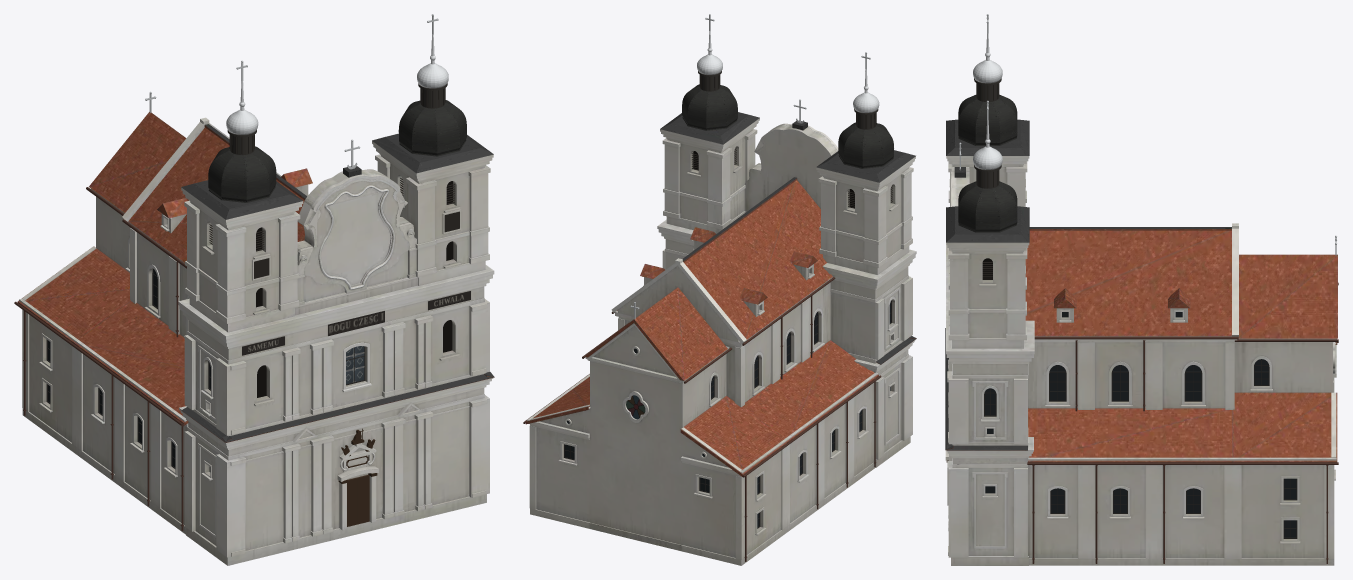
File: kostel-hist-1k.glb
3 views of the same model, side by side, from view 1: azimuth 30°, elevation 25°; view 2: azimuth 150°, elevation 25°; view 3: azimuth 270°, elevation 25° (orthographic). The views are drawn at different scales.
Parts seen in each view (by area): view 1: K_masonry, K_roof, K_domeF, K_pipe, K_domeT, K_void, K_door, K_dome, K_louv, K_GLTF_2, K_leaded, K_sash (+1 smaller); view 2: K_masonry, K_roof, K_domeF, K_pipe, K_glass.001, K_domeT, K_dome, K_sash, K_louv; view 3: K_masonry, K_roof, K_domeF, K_glass.001, K_pipe, K_sash, K_domeT, K_dome.
Part boxes in pixels (box(x1,y1,x2,y2)): K_masonry: box(19, 117, 494, 565); K_roof: box(17, 112, 494, 442); K_domeF: box(208, 100, 466, 202); K_pipe: box(14, 187, 186, 530); K_domeT: box(226, 63, 448, 134); K_void: box(256, 181, 453, 397); K_door: box(347, 474, 369, 526); K_dome: box(227, 83, 447, 154); K_louv: box(209, 88, 454, 251); K_GLTF_2: box(328, 311, 384, 335); K_leaded: box(346, 346, 364, 383); K_sash: box(46, 269, 365, 468); K_masonry: box(527, 118, 916, 565); K_roof: box(525, 112, 916, 476); K_domeF: box(682, 84, 893, 168); K_pipe: box(523, 277, 881, 561); K_glass.001: box(565, 301, 890, 527); K_domeT: box(697, 54, 879, 112); K_dome: box(698, 71, 878, 129); K_sash: box(564, 300, 891, 528); K_louv: box(691, 75, 892, 208); K_masonry: box(945, 156, 1336, 565); K_roof: box(945, 119, 1337, 462); K_domeF: box(958, 94, 1017, 232); K_glass.001: box(985, 312, 1296, 537); K_pipe: box(1027, 282, 1338, 563); K_sash: box(984, 359, 1297, 538); K_domeT: box(973, 60, 1002, 169); K_dome: box(974, 78, 1001, 188).
Size of the model in its own units: 23.23 by 39.67 by 31.44.
Materials: 21 (8 with a texture image).
